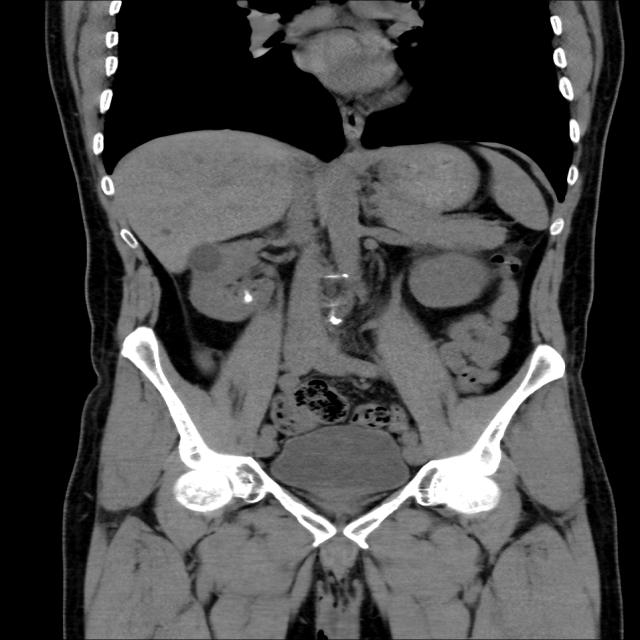kidneystone: (243, 290, 253, 304)
